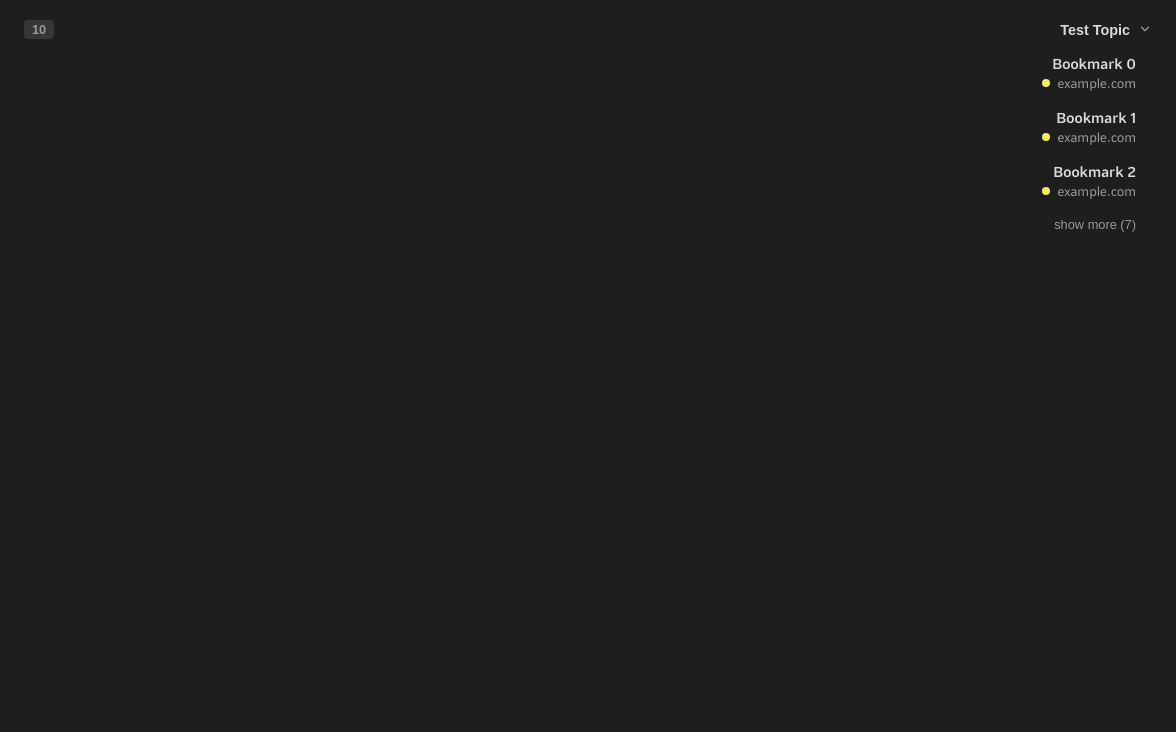
Test: TopicGroup › shows all bookmarks when showMore is clicked
The width and height of the screenshot is (1176, 732).
Click the button with class "topic-show-more". click: (1095, 224)
box: top-left (12, 209), bottom-right (1148, 240)
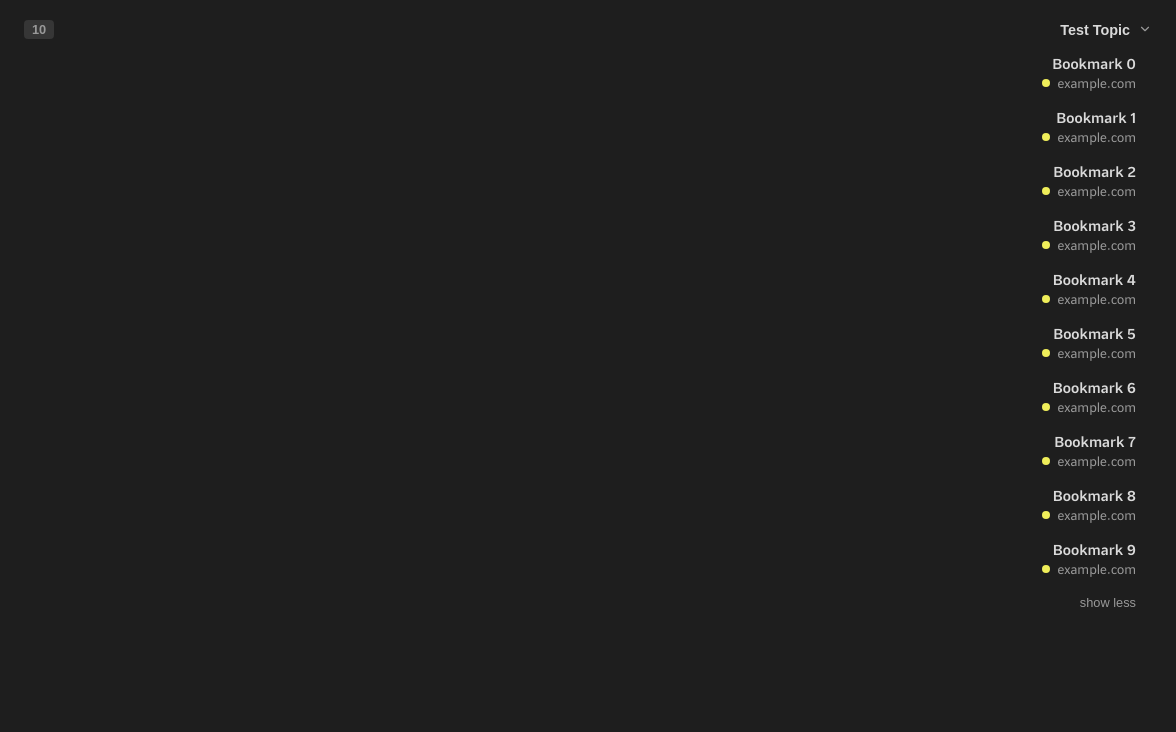
Result: the text "Bookmark 9" is shown at top-left (1053, 541), bottom-right (1136, 559)
